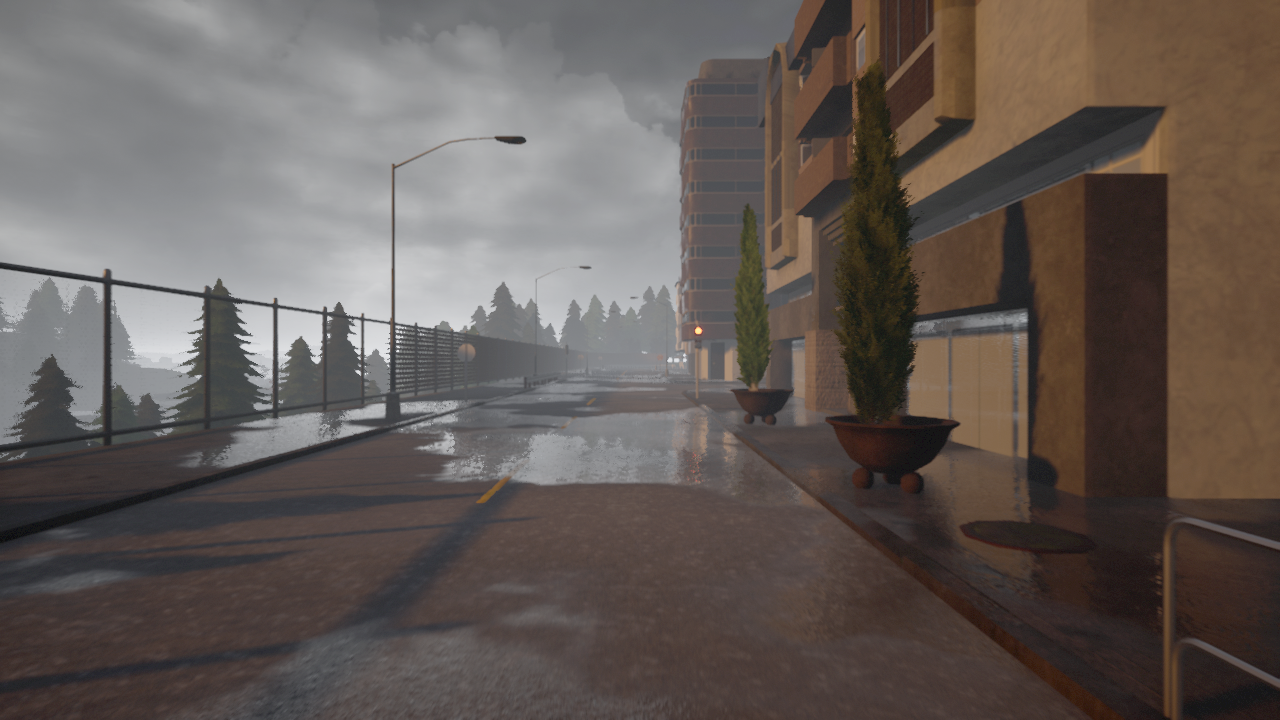red: (693, 326, 702, 349)
